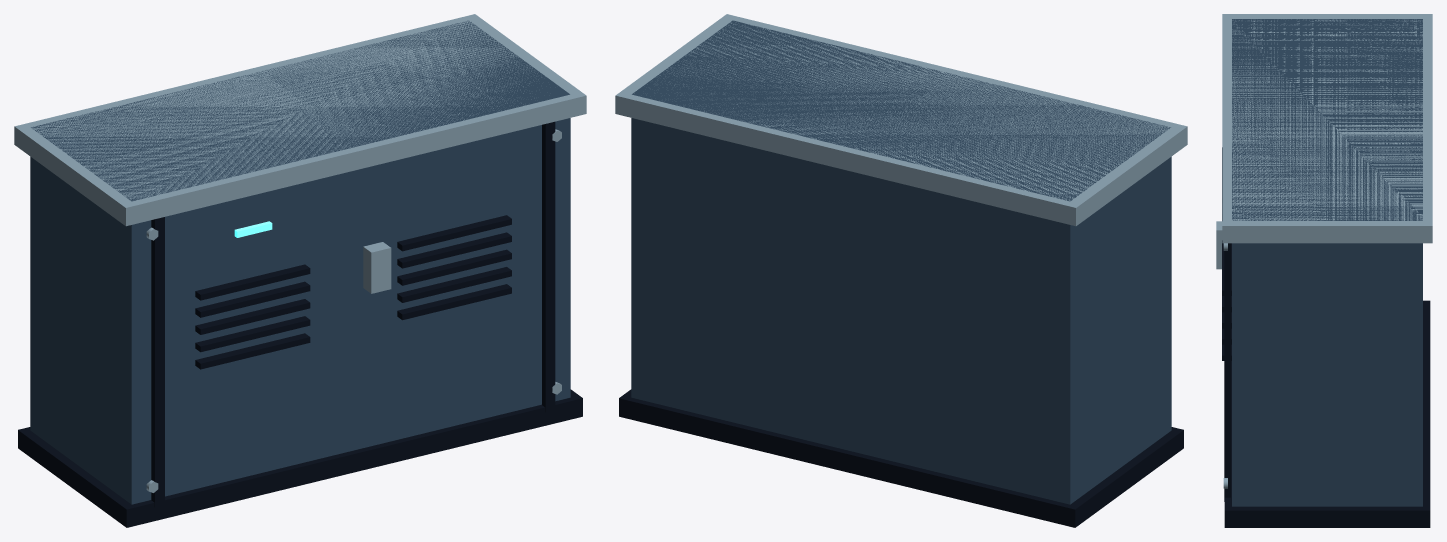
The model's file is cover.glb.
The picture shows the model from 3 angles, left to right: view 1: azimuth 30°, elevation 25°; view 2: azimuth 150°, elevation 25°; view 3: azimuth 270°, elevation 25°; orthographic projection. The views are drawn at different scales.
Parts seen in each view (by area): view 1: prop-cover-sz-armor, prop-cover-sz-edge, prop-cover-sz-rubber; view 2: prop-cover-sz-armor, prop-cover-sz-edge, prop-cover-sz-rubber; view 3: prop-cover-sz-armor, prop-cover-sz-edge, prop-cover-sz-rubber.
Part boxes in pixels (x1,y1,x2,y2): prop-cover-sz-armor: (30, 20, 570, 504); prop-cover-sz-edge: (14, 14, 586, 492); prop-cover-sz-rubber: (18, 121, 582, 527); prop-cover-sz-armor: (631, 20, 1171, 504); prop-cover-sz-edge: (615, 14, 1187, 226); prop-cover-sz-rubber: (619, 389, 1183, 527); prop-cover-sz-armor: (1232, 19, 1422, 506); prop-cover-sz-edge: (1216, 14, 1432, 488); prop-cover-sz-rubber: (1222, 147, 1430, 527).
Size of the model in its own units: 2.1 by 1.4 by 0.905.
